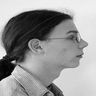ear: (26, 31, 47, 60)
